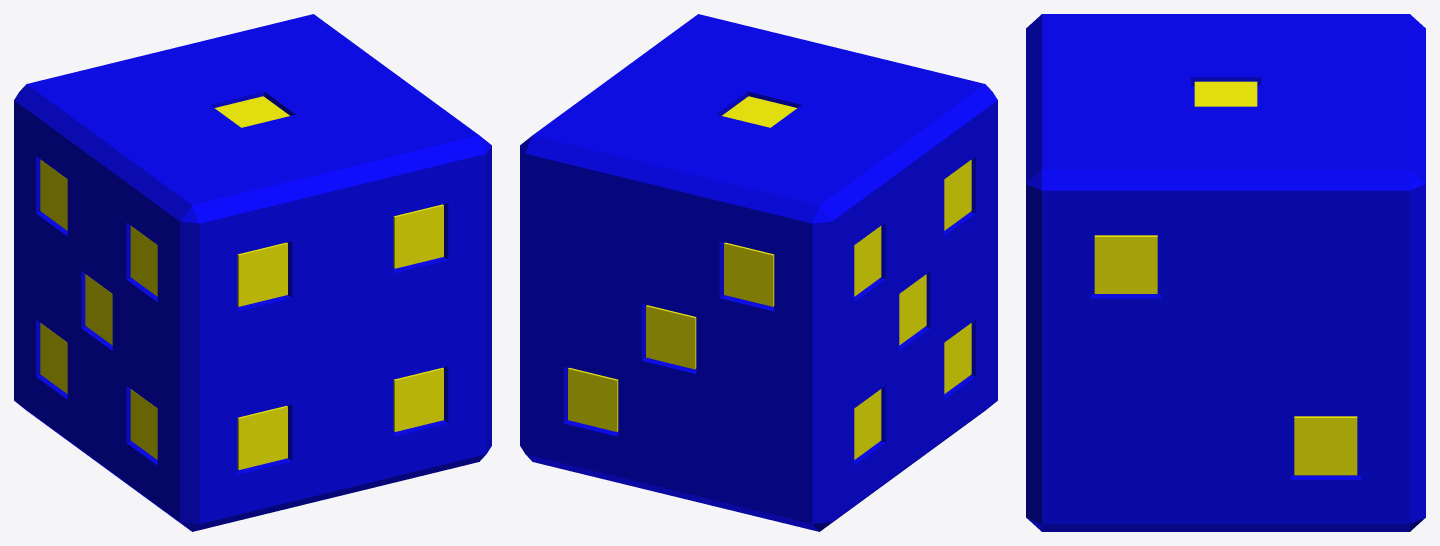
The model's file is 2_gold_dice_blue.gltf.
The picture shows the model from 3 angles, left to right: view 1: azimuth 30°, elevation 25°; view 2: azimuth 150°, elevation 25°; view 3: azimuth 270°, elevation 25°; orthographic projection. The views are drawn at different scales.
Visible parts, largest first — view 1: D6_Dice_Blue; view 2: D6_Dice_Blue; view 3: D6_Dice_Blue.
Boxes of the visible parts, left/top/right/bottom form: D6_Dice_Blue: left=14, top=14, right=491, bottom=531; D6_Dice_Blue: left=520, top=14, right=997, bottom=531; D6_Dice_Blue: left=1026, top=14, right=1425, bottom=531.
Bounding box in the file's own units: 2 × 2 × 2.
